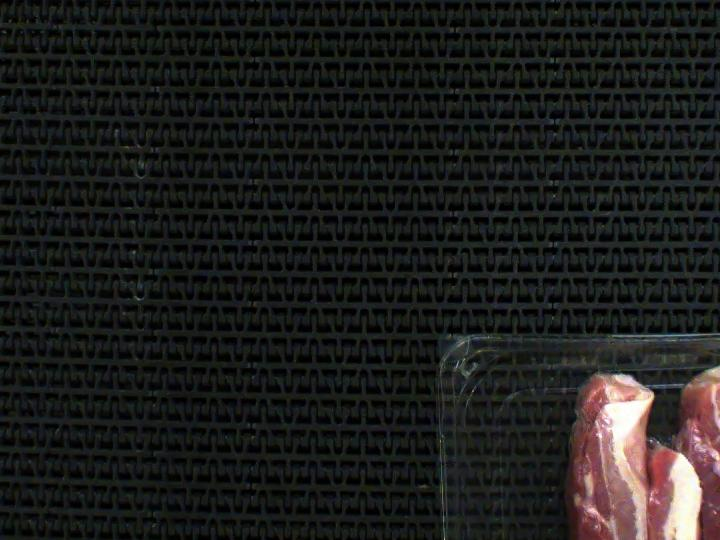packaging-error: (544, 330, 720, 415)
